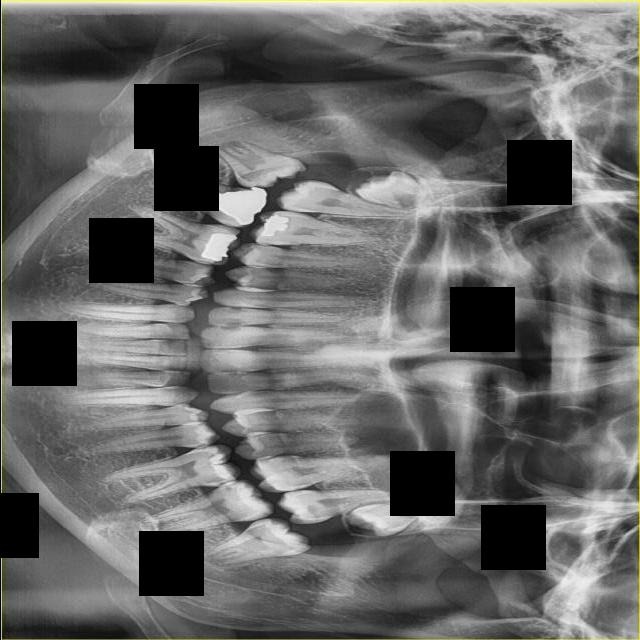74: (152, 169, 225, 210)
NucleOSS Implant: (210, 185, 272, 230), (197, 224, 237, 268), (256, 212, 290, 237)
Sterngold Implant: (304, 503, 323, 522), (214, 364, 244, 374), (214, 326, 243, 334), (217, 319, 245, 327), (206, 476, 229, 485), (225, 307, 248, 313), (219, 484, 232, 492), (192, 442, 208, 448)
